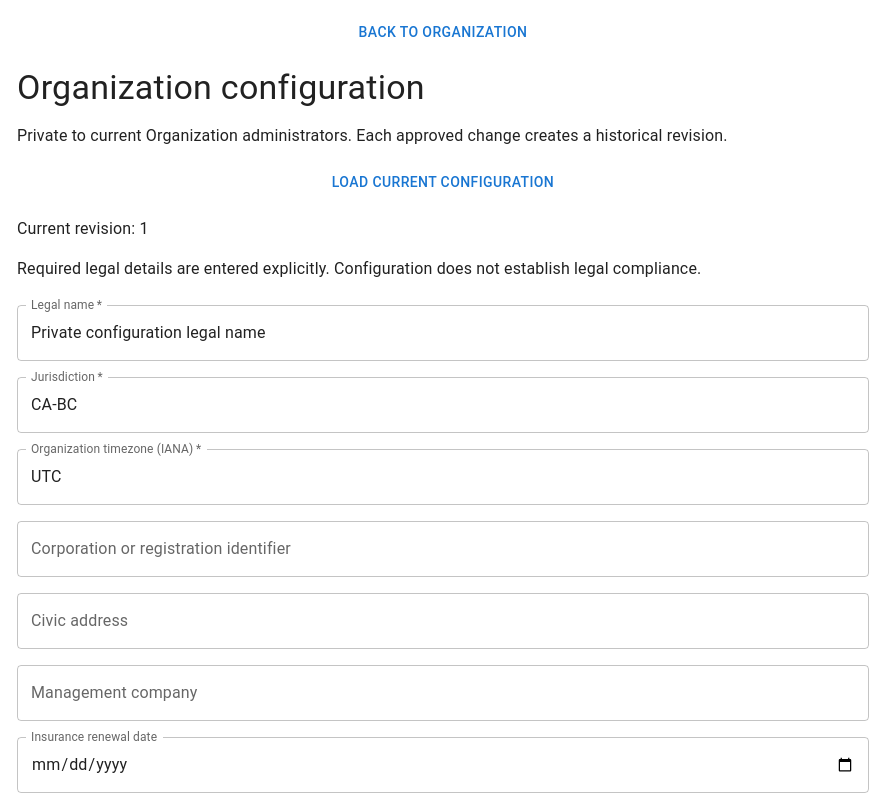
Scenario: records admitted opening, explicit read retry, history and retained-stream recovery with fixed fields
expect the field labelled "Legal name *" is shown: met, box x1=17 y1=305 x2=869 y2=361
Click the button "Load current configuration" at (443, 183), box x1=17 y1=164 x2=869 y2=201
(page scrolled)
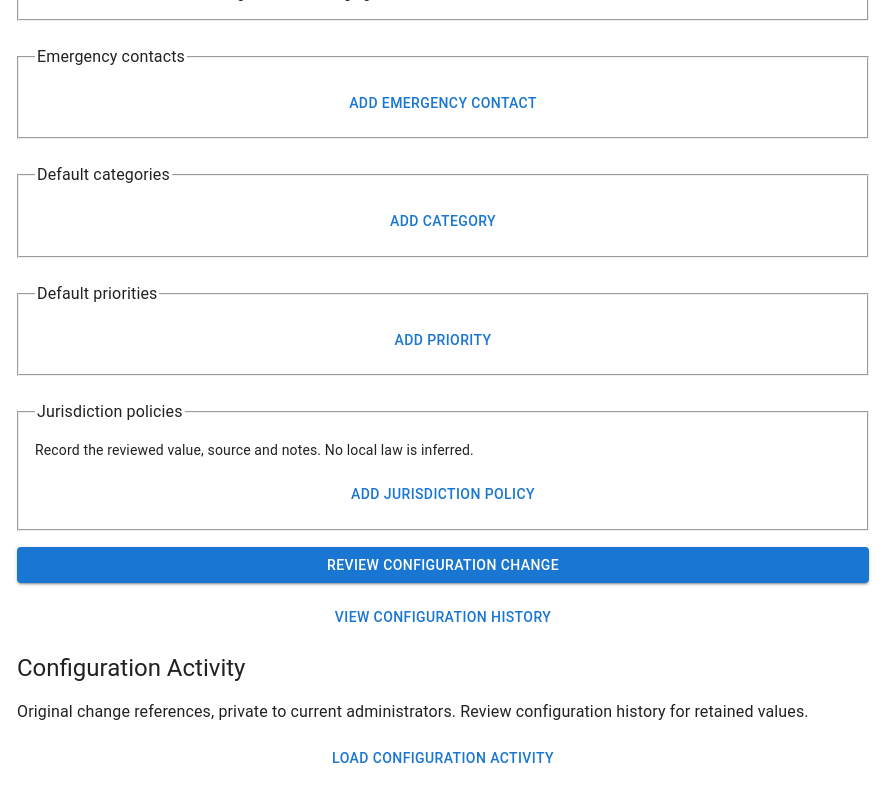
expect the button "Review configuration change" is enabled: met, box x1=17 y1=547 x2=869 y2=583
Click the button "View configuration history" at (443, 617), box x1=17 y1=599 x2=869 y2=636
(page scrolled)
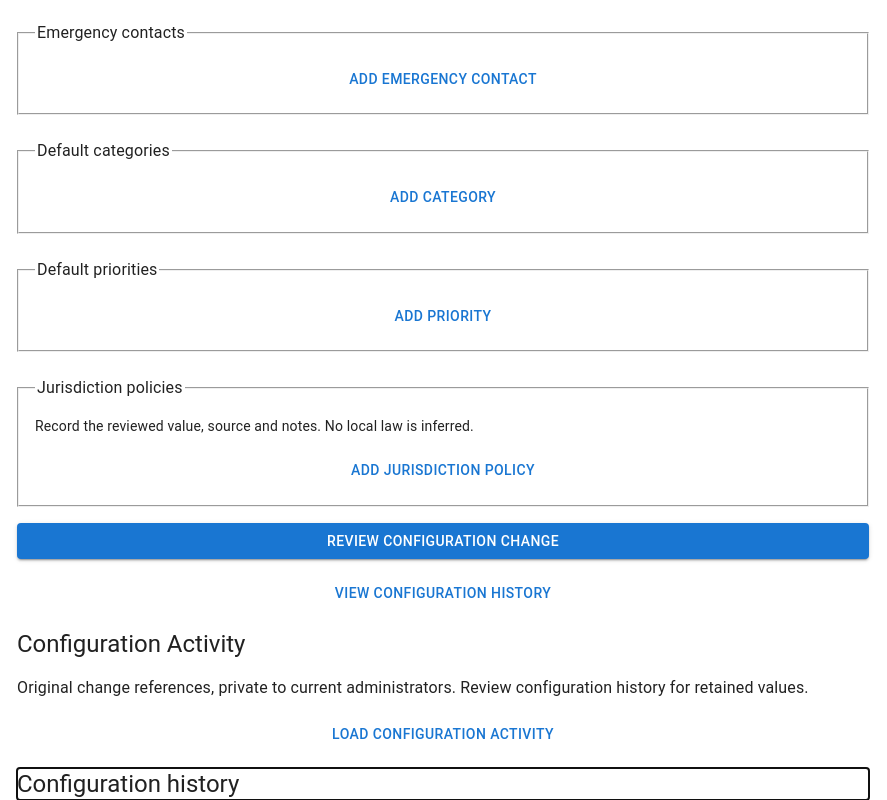
expect the heading "Configuration history" is shown: met, box x1=17 y1=770 x2=239 y2=798
